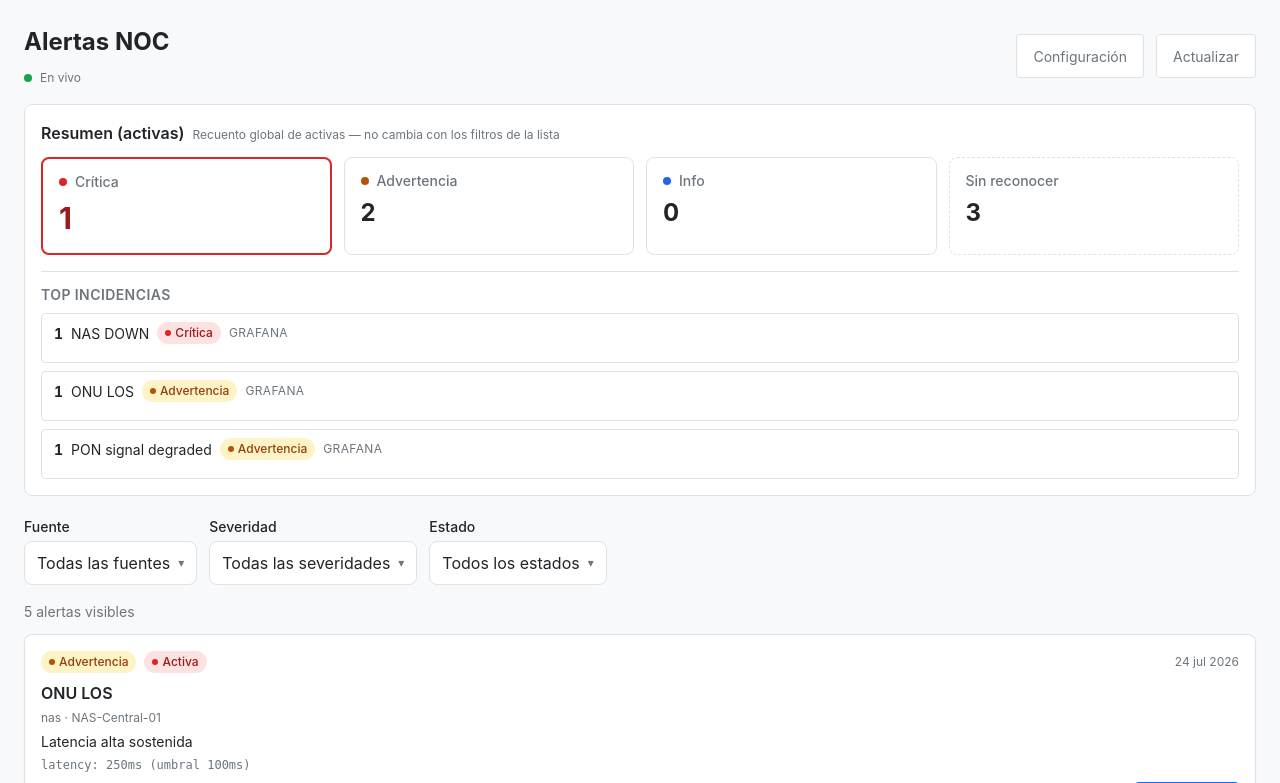
Scenario: MEDIO-1 (3ª review adversarial): the reducer models summary ENGAGEMENT, not "field is non-empty" › door 1: hand-picked severity + engage a type row + DISengage it → the status goes back, no phantom pressed tile
The image size is (1280, 783).
# El operario elige Severidad a mano. NO es un tile enganchado.
Click the dropdown labelled "Todas las severidades ▾". click: (313, 563)
box: [209,541,417,585]
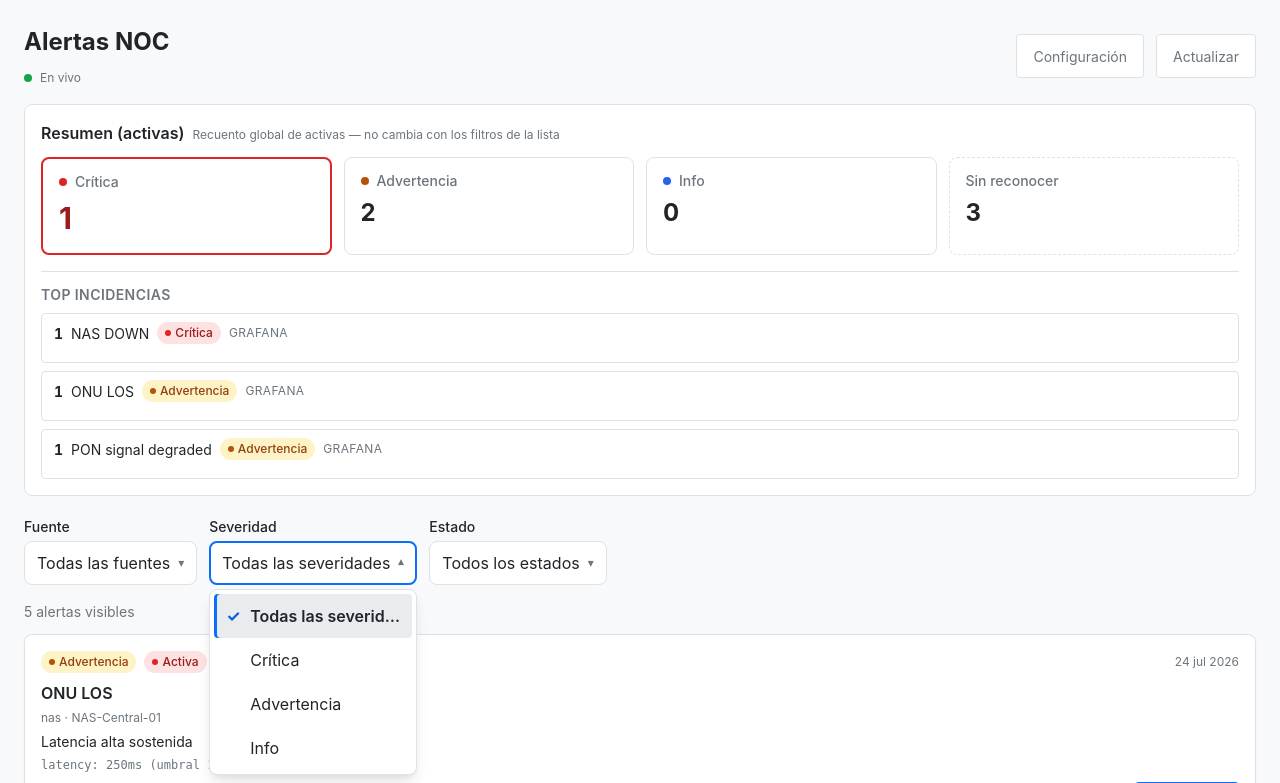
Click the option "Advertencia". click: (296, 704)
box: [250,694,341,714]
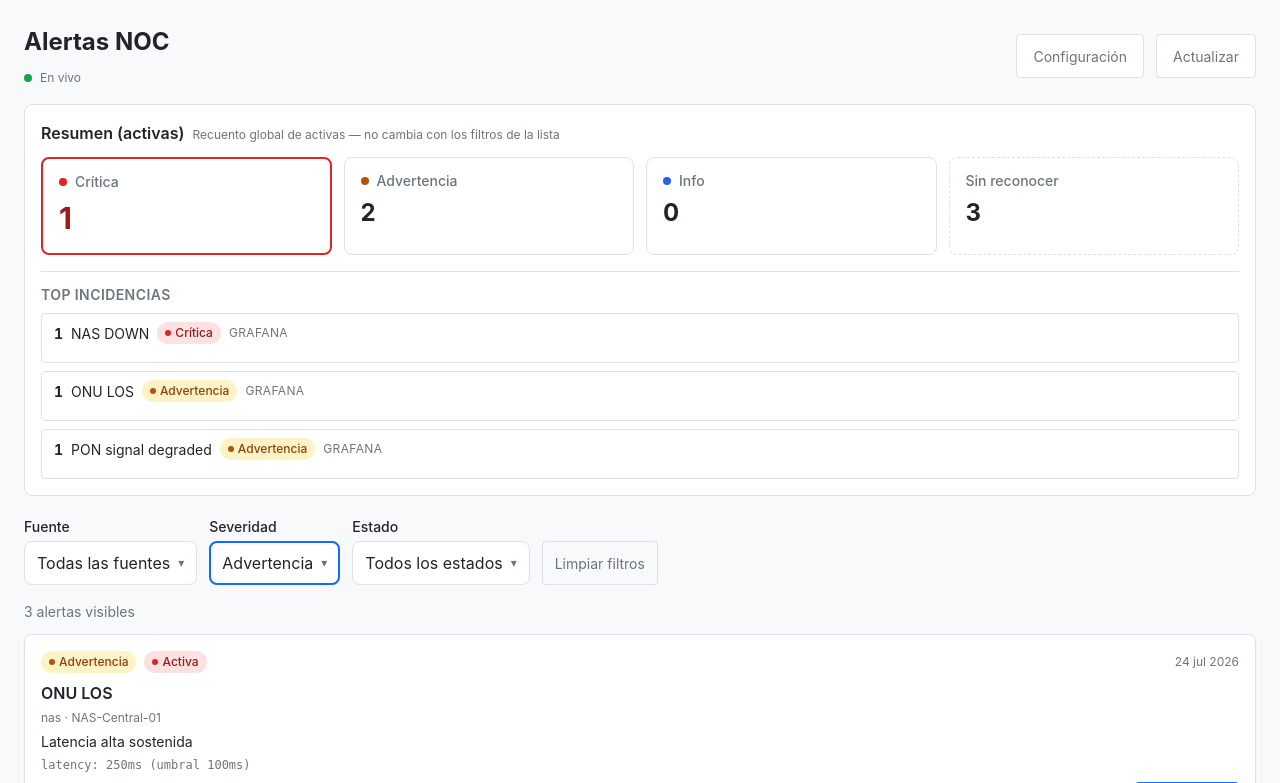
Expected: the dropdown labelled "Todos los estados ▾" is shown, [352,541,530,585]
# Engancha una fila del breakdown y la desengancha.
Click the button "1 ONU LOS Advertencia grafana". click: (102, 391)
box: [41,371,1239,421]
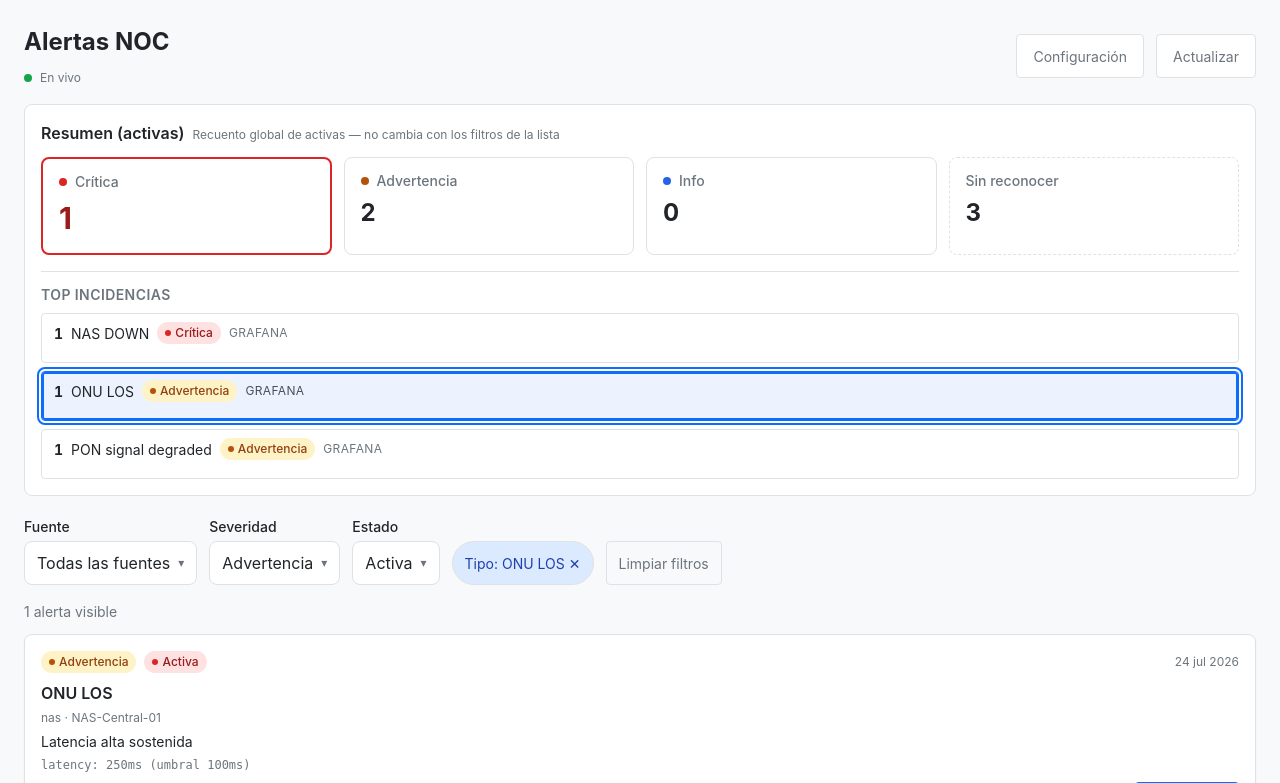
Now the dropdown named "estado" shows "Activa", box [352,541,440,585]
Click the button "1 ONU LOS Advertencia grafana". click: (102, 391)
box: [41,371,1239,421]
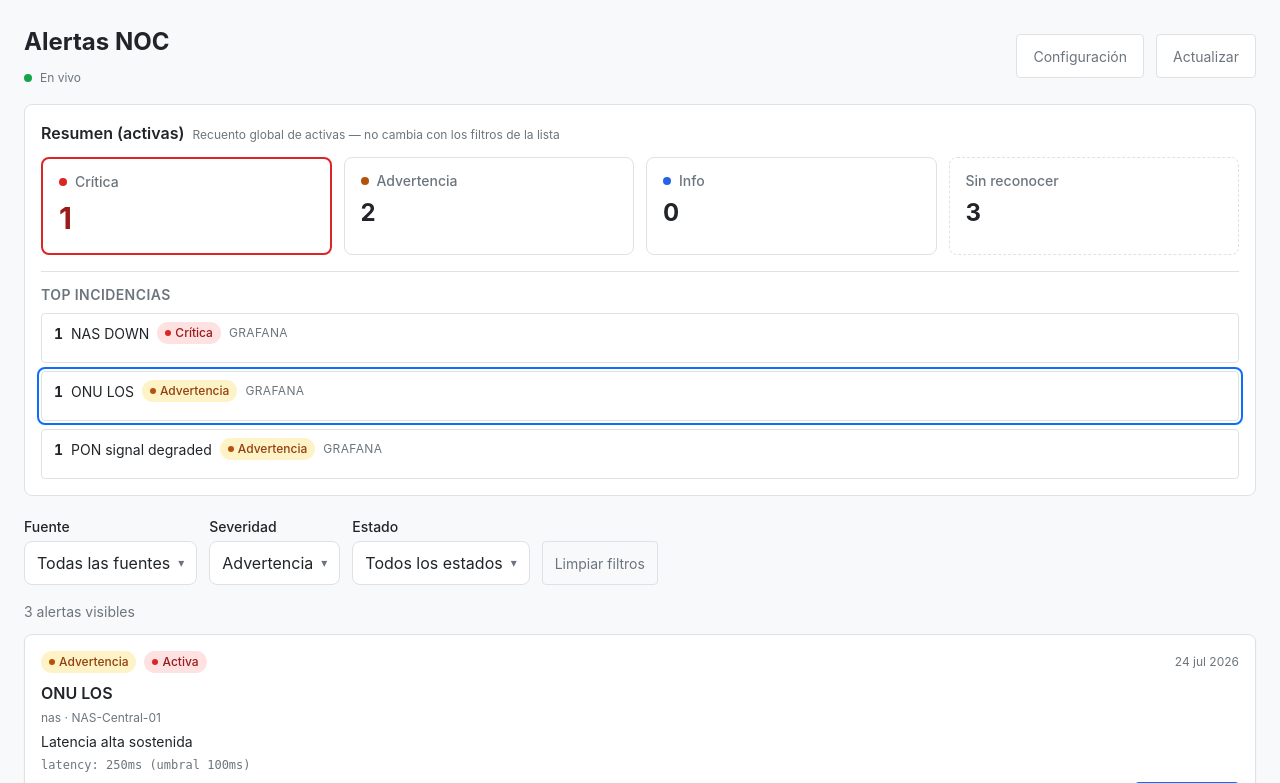
Now the dropdown labelled "Todos los estados ▾" is shown, box [352,541,530,585]
